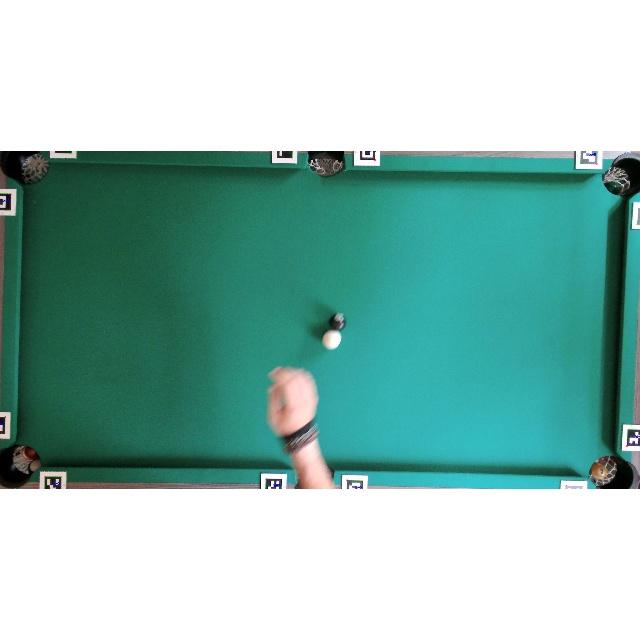cue ball: (322, 330, 342, 350)
other: (328, 312, 347, 332)
